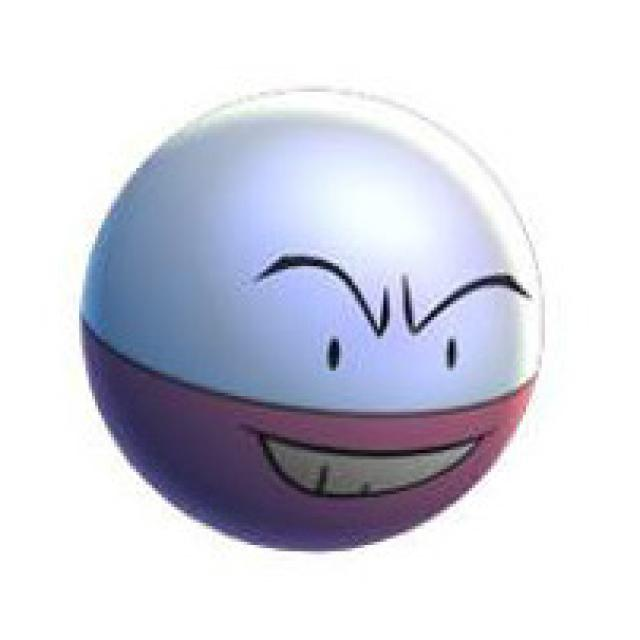Electrode: (78, 92, 550, 556)
